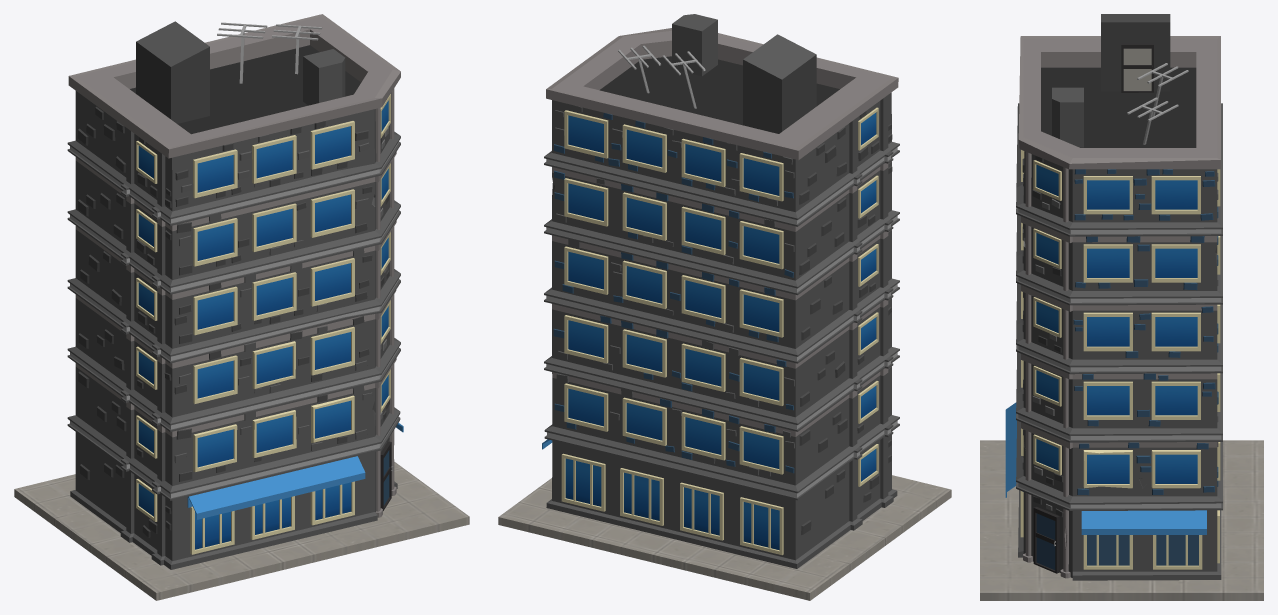
File: House_12.fbx
3 renders of one model, left to right at view 1: azimuth 30°, elevation 25°; view 2: azimuth 150°, elevation 25°; view 3: azimuth 270°, elevation 25°, orthographic.
Parts seen in each view (by area): view 1: House_12; view 2: House_12; view 3: House_12.
Part boxes in pixels (box(x1,y1,x2,y2)): House_12: box(14, 14, 469, 600); House_12: box(498, 14, 951, 600); House_12: box(980, 14, 1263, 600).
Bounding box in the file's own units: 2100 × 3088 × 1650.
